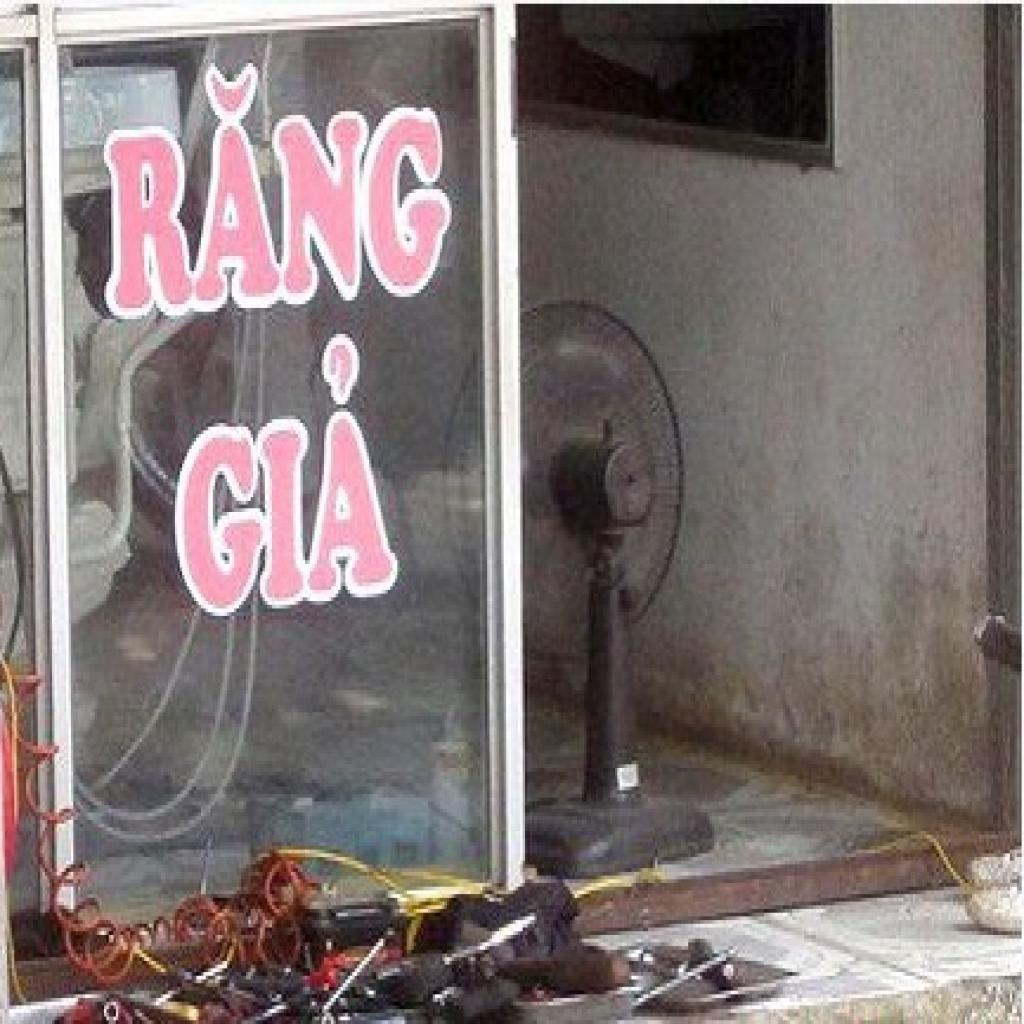text: (85, 41, 452, 323)
